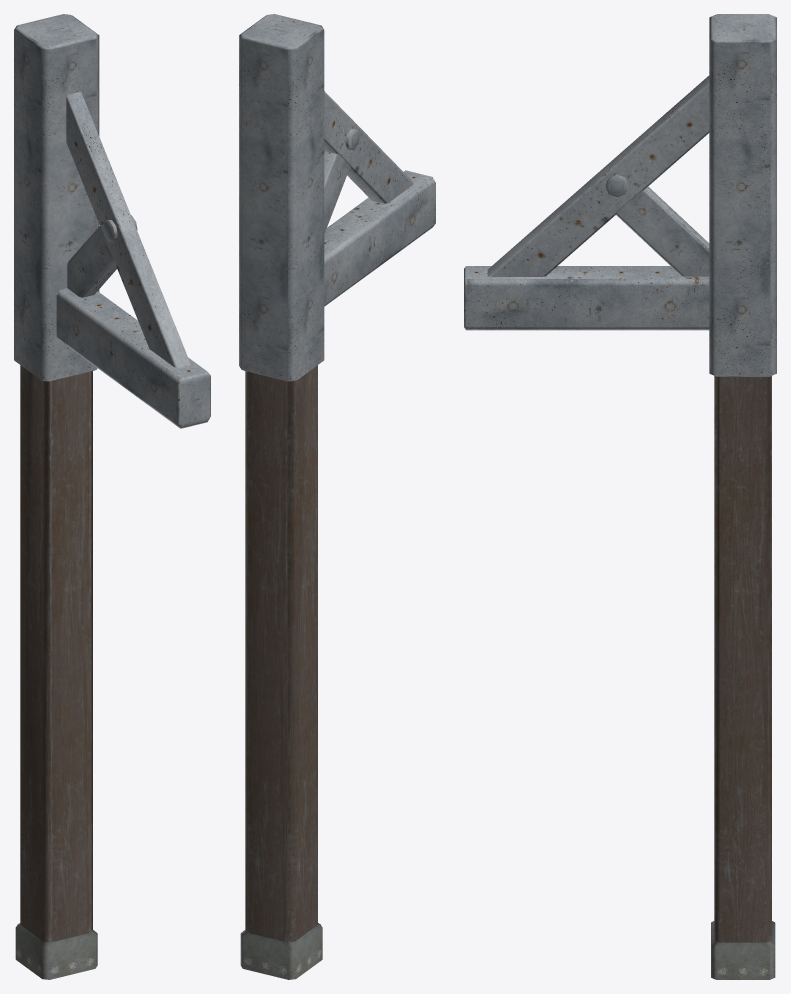
File: Ob_WoodSupportUpSide_RC.fbx
3 renders of one model, left to right at view 1: azimuth 30°, elevation 25°; view 2: azimuth 150°, elevation 25°; view 3: azimuth 270°, elevation 25°, orthographic.
Parts seen in each view (by area): view 1: Ob_WoodSupportUpSide_RC; view 2: Ob_WoodSupportUpSide_RC; view 3: Ob_WoodSupportUpSide_RC.
Part boxes in pixels (x1,y1,x2,y2): Ob_WoodSupportUpSide_RC: [14, 14, 210, 979]; Ob_WoodSupportUpSide_RC: [239, 14, 435, 979]; Ob_WoodSupportUpSide_RC: [464, 14, 776, 979].
Bounding box in the file's own units: 99.77 × 1527 × 461.
